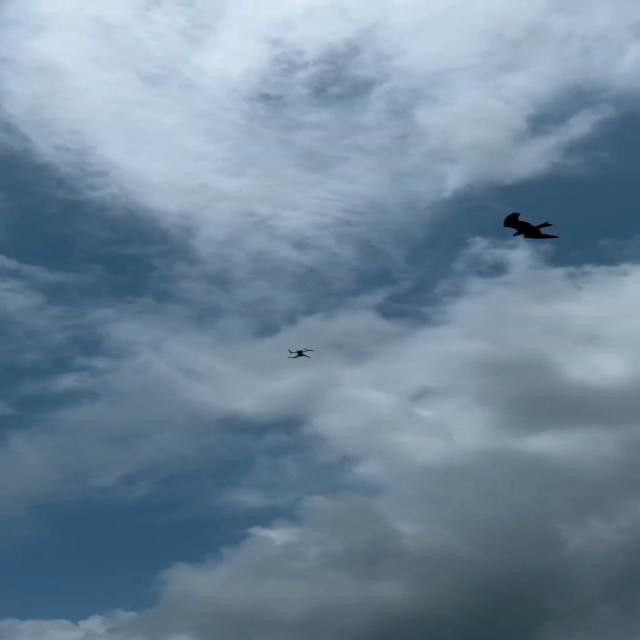bird: (502, 211, 558, 239)
drone: (287, 348, 314, 358)
